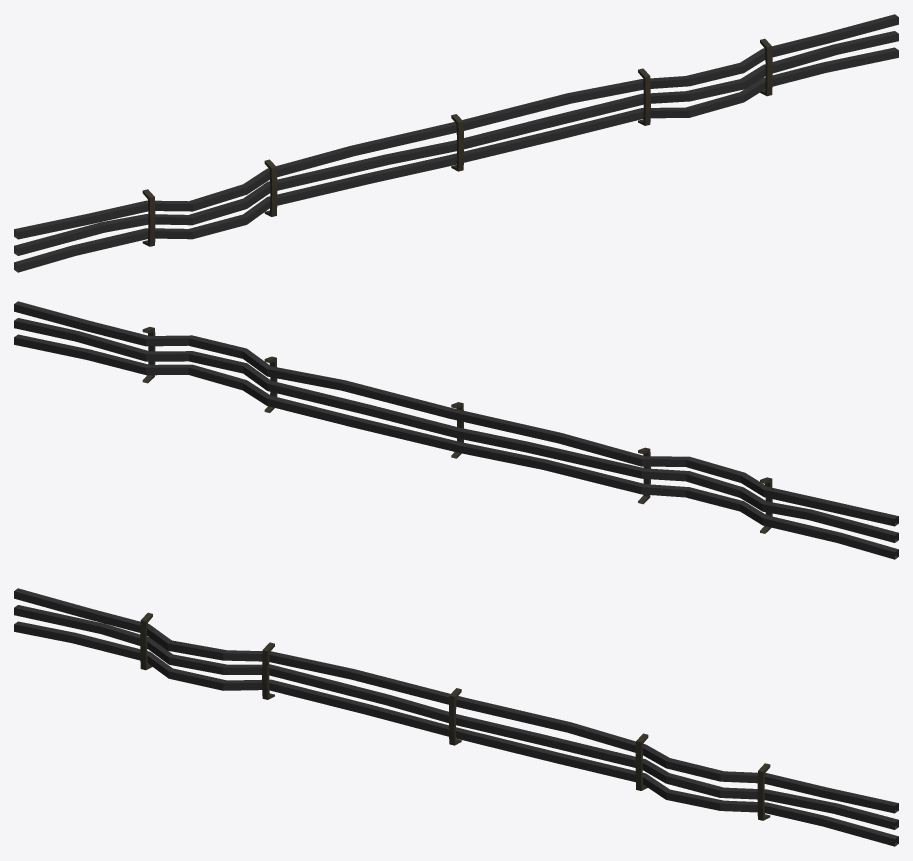
Rendered from SW_ENV_Wires3_RailTunnelWall_03_05m.fbx.
3 renders of one model, top to bottom at view 1: azimuth 30°, elevation 25°; view 2: azimuth 150°, elevation 25°; view 3: azimuth 330°, elevation 25°, orthographic.
Visible parts, largest first — view 1: SW_ENV_Wires3_RailTunnelWall_03_05m; view 2: SW_ENV_Wires3_RailTunnelWall_03_05m; view 3: SW_ENV_Wires3_RailTunnelWall_03_05m.
Part boxes in pixels (left/top/right/bottom): SW_ENV_Wires3_RailTunnelWall_03_05m: left=14, top=14, right=898, bottom=272; SW_ENV_Wires3_RailTunnelWall_03_05m: left=14, top=301, right=898, bottom=559; SW_ENV_Wires3_RailTunnelWall_03_05m: left=14, top=588, right=898, bottom=846.
Size of the model in its own units: 500 by 28.66 by 14.88.
